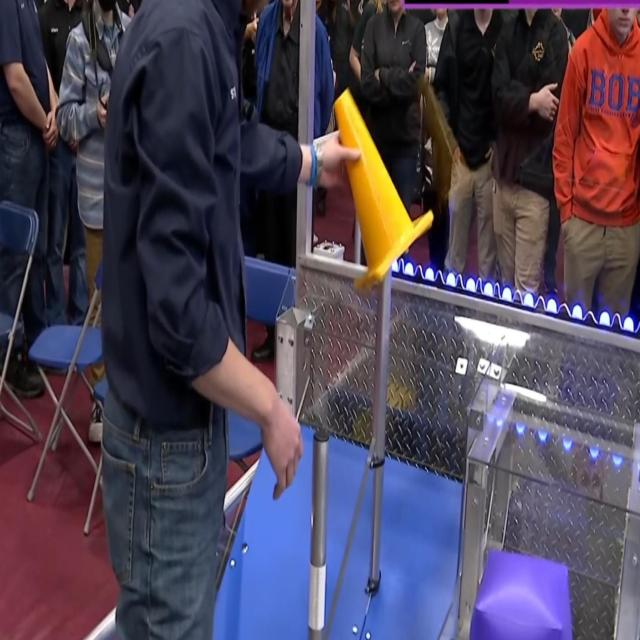frc_cone: (331, 84, 433, 298)
frc_cube: (471, 554, 571, 640)
